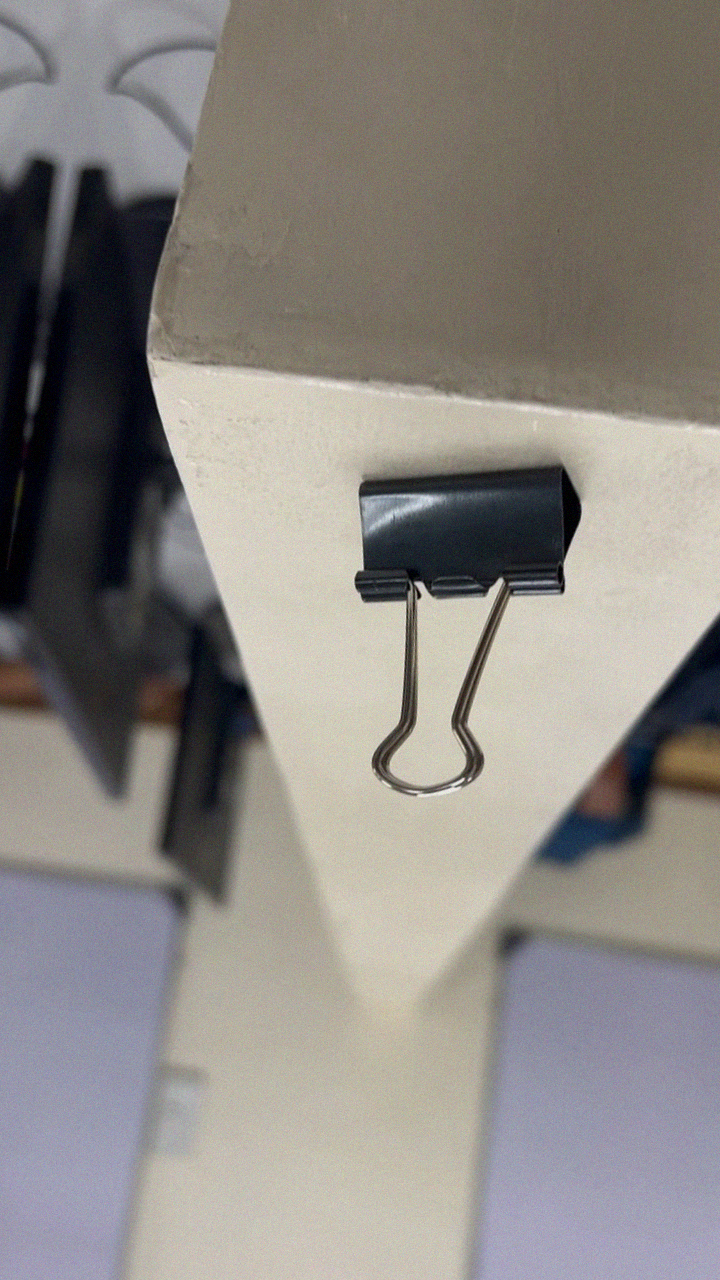kep_giay: (310, 439, 594, 820)
